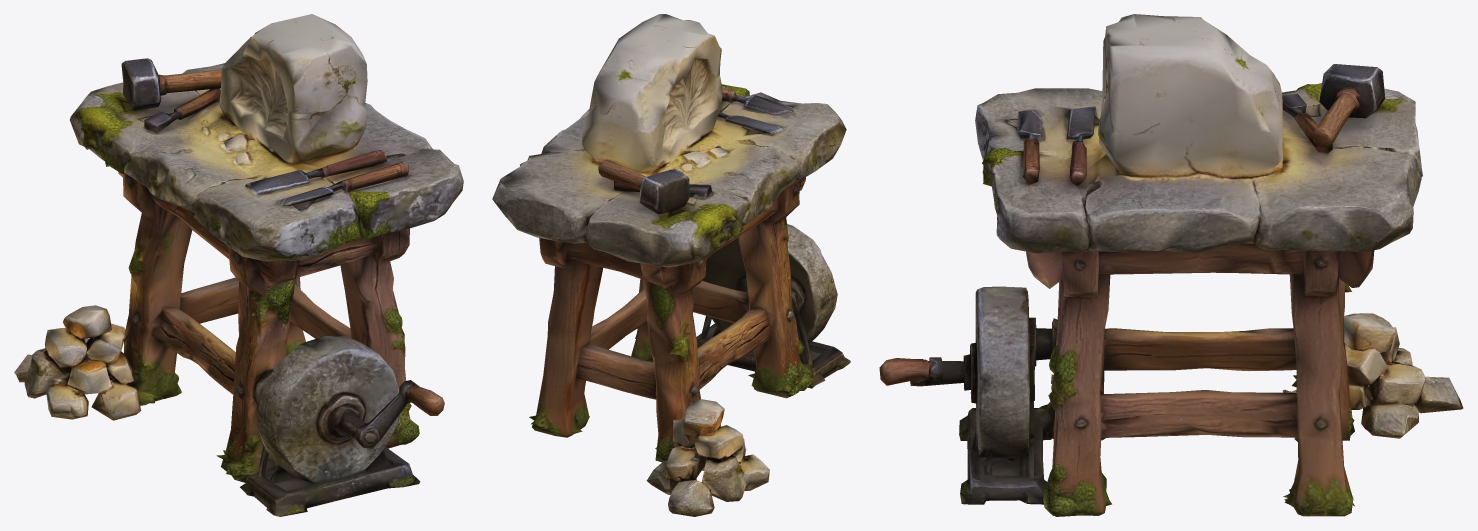
Rendered from town_station_stonecutter.glb.
3 renders of one model, left to right at view 1: azimuth 30°, elevation 25°; view 2: azimuth 150°, elevation 25°; view 3: azimuth 270°, elevation 25°, orthographic. The views are drawn at different scales.
Visible parts, largest first — view 1: tripo_node_5b82bb0c-02e5-4bc0-a2d6-aee7678ed597; view 2: tripo_node_5b82bb0c-02e5-4bc0-a2d6-aee7678ed597; view 3: tripo_node_5b82bb0c-02e5-4bc0-a2d6-aee7678ed597.
Part boxes in pixels (x1,y1,x2,y2): tripo_node_5b82bb0c-02e5-4bc0-a2d6-aee7678ed597: (14, 14, 463, 516); tripo_node_5b82bb0c-02e5-4bc0-a2d6-aee7678ed597: (492, 14, 850, 516); tripo_node_5b82bb0c-02e5-4bc0-a2d6-aee7678ed597: (879, 14, 1463, 516).
Size of the model in its own units: 1.36 by 1.8 by 2.08.
Materials: 1 (1 with a texture image).
